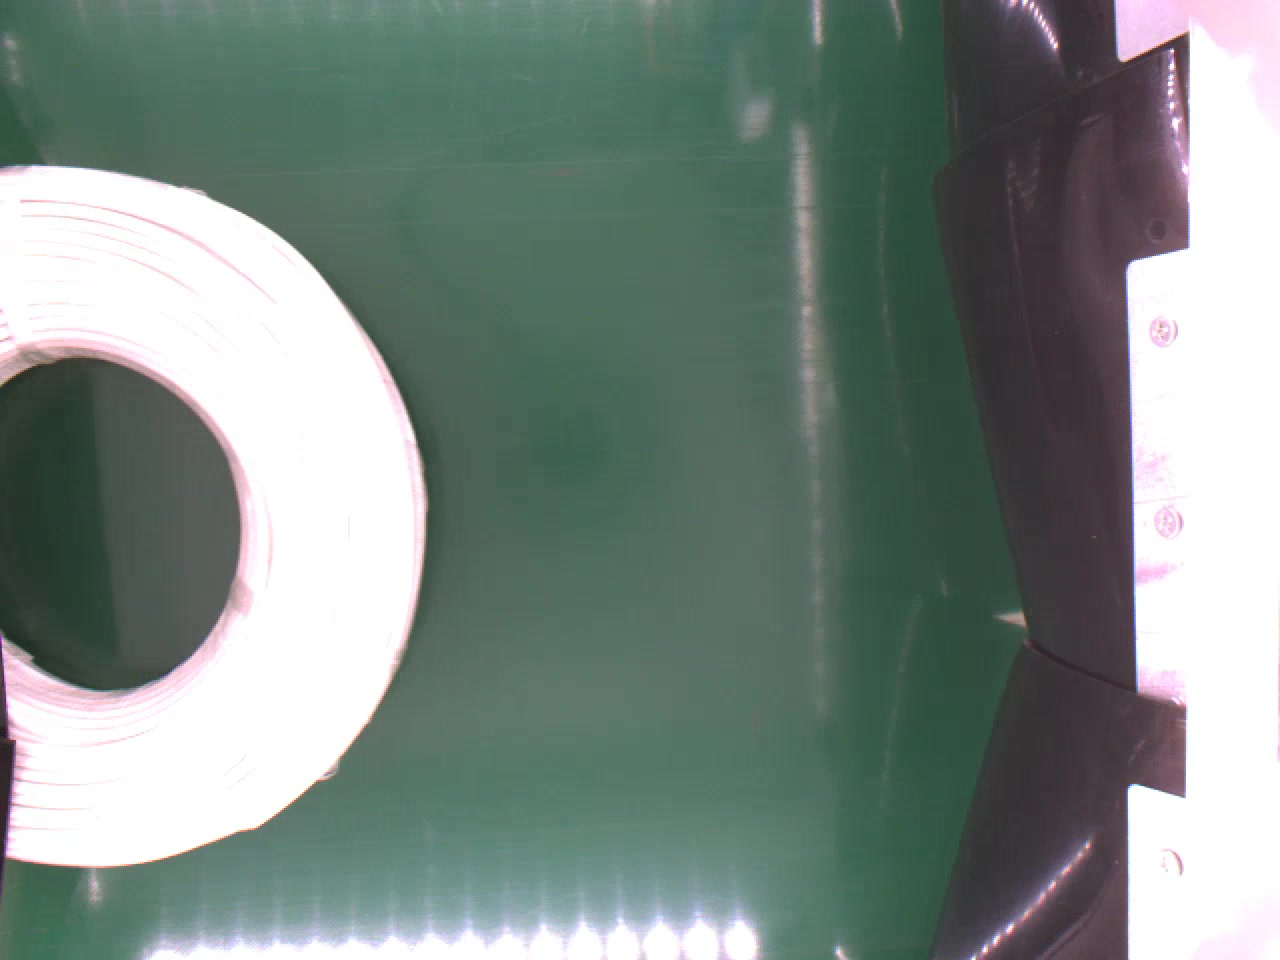white: (0, 160, 435, 876)
